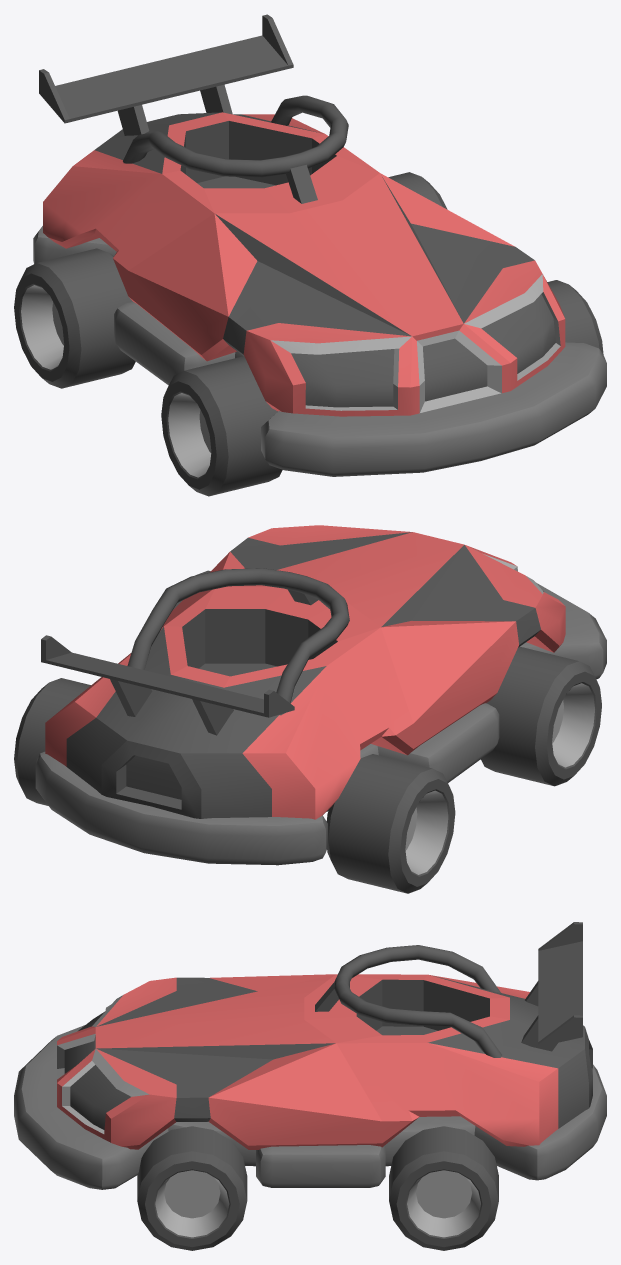
File: SampleCar.fbx
3 renders of one model, top to bottom at view 1: azimuth 30°, elevation 25°; view 2: azimuth 150°, elevation 25°; view 3: azimuth 270°, elevation 25°, orthographic. The views are drawn at different scales.
Parts seen in each view (by area): view 1: Body, Wheels, Bumper; view 2: Body, Wheels, Bumper; view 3: Body, Wheels, Bumper.
Part boxes in pixels (x1,y1,x2,y2): Body: (39,14,565,416); Wheels: (14,172,603,496); Bumper: (33,226,606,476); Body: (41,525,565,819); Wheels: (14,570,601,893); Bumper: (35,582,606,865); Body: (57,922,592,1149); Wheels: (137,1126,498,1250); Bumper: (14,1025,606,1189).
Size of the model in its own units: 0.3541 by 0.2073 by 0.5488.
